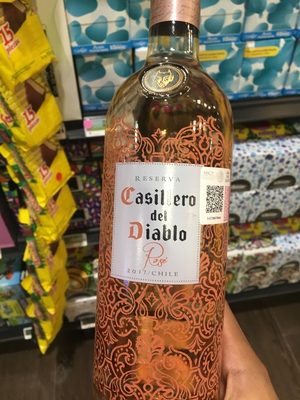casillero del diablo rose: (87, 8, 242, 398)
